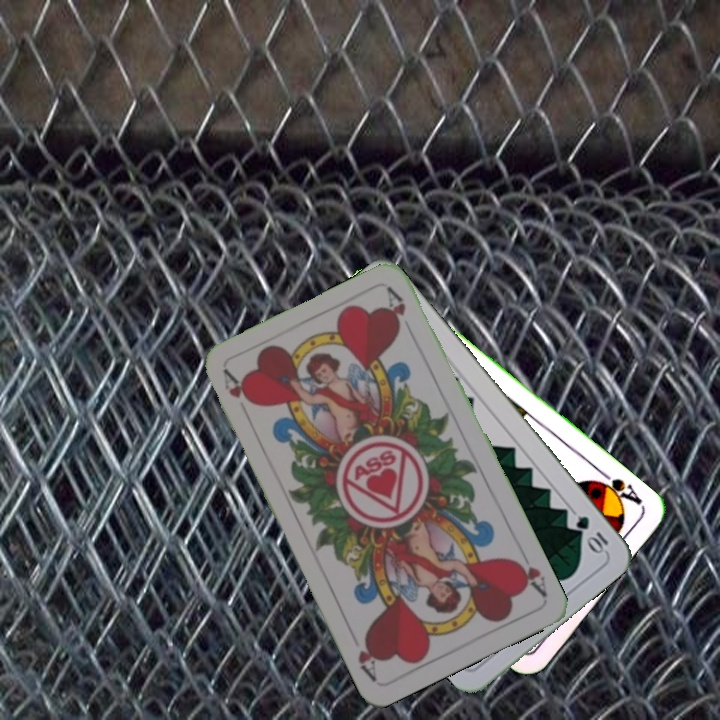G10: (571, 511, 612, 556)
HA: (508, 545, 550, 600), (219, 366, 256, 407)
SA: (590, 467, 645, 511)
